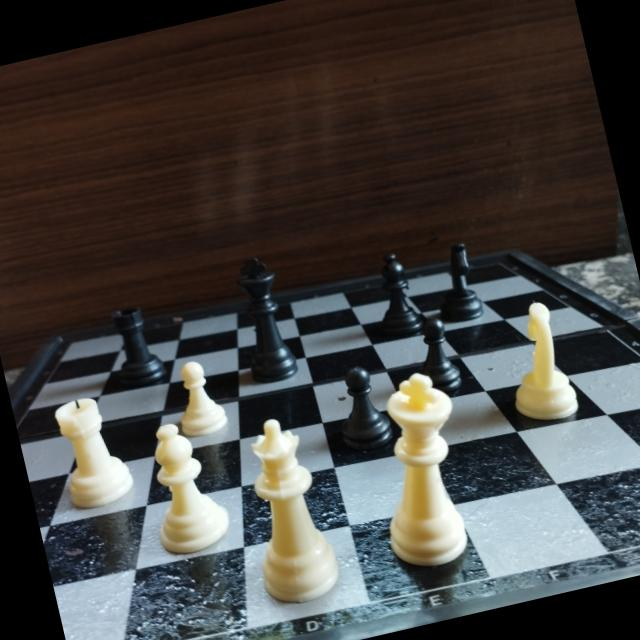Black Bishop: (360, 238, 432, 344)
Black Knight: (424, 232, 488, 326)
Black Pawn: (323, 358, 398, 458), (410, 309, 468, 402)
Black Rook: (101, 294, 170, 396)
White Bishop: (134, 411, 238, 562)
White King: (352, 358, 488, 576)
White Knight: (491, 290, 588, 434)
White Pawn: (222, 242, 306, 391), (166, 350, 230, 440)
White Queen: (226, 404, 345, 612)
White Rook: (42, 381, 142, 519)
